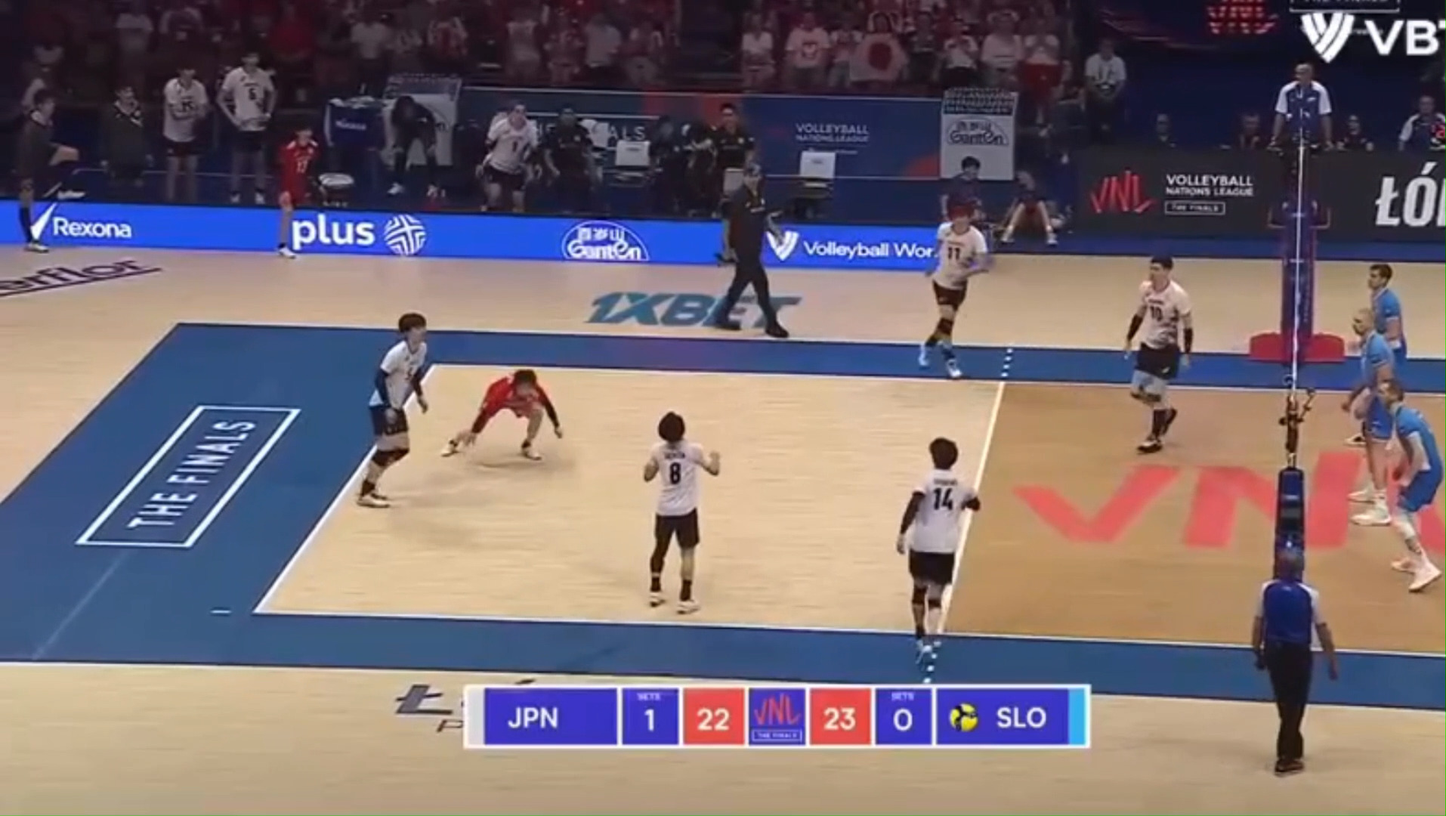player: (1377, 379, 1445, 592), (1343, 308, 1394, 525), (1367, 263, 1407, 375)
player 1: (896, 437, 981, 664), (642, 412, 720, 614), (357, 312, 428, 508), (1125, 256, 1194, 453), (919, 205, 991, 379), (443, 369, 562, 459)
referee: (1251, 547, 1337, 775), (711, 164, 789, 338), (1270, 61, 1333, 249)
